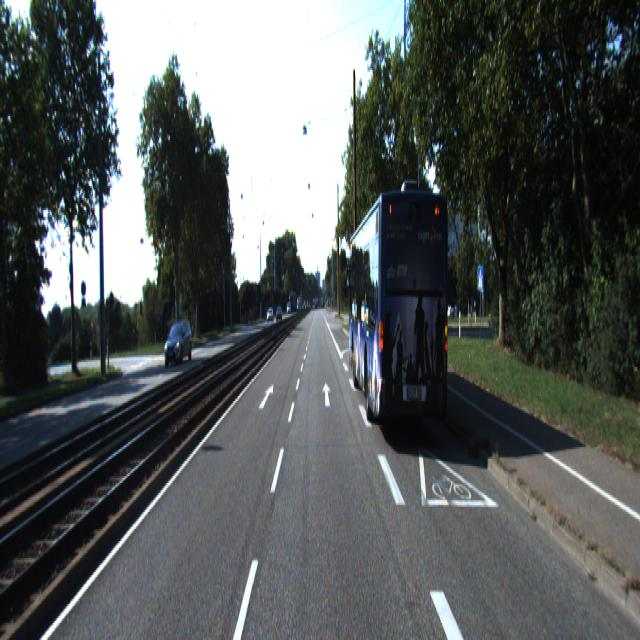Car: (348, 179, 452, 449), (162, 320, 193, 368)
